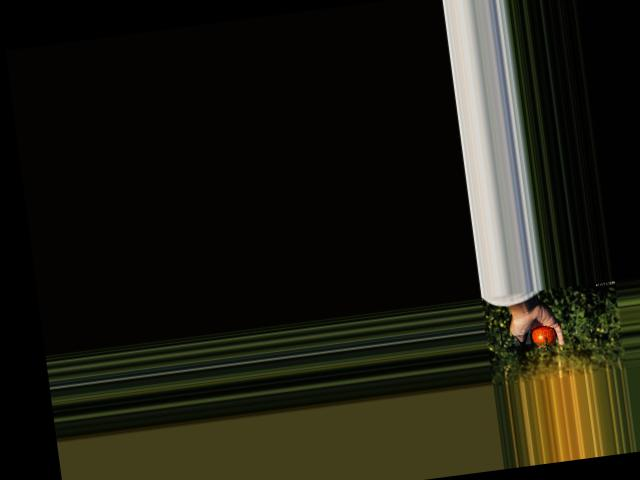tomato: (532, 324, 557, 348)
